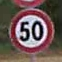limite 50: (7, 7, 54, 52)
